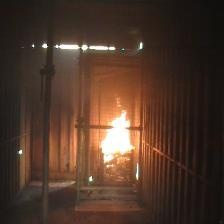fire: (98, 104, 135, 166)
